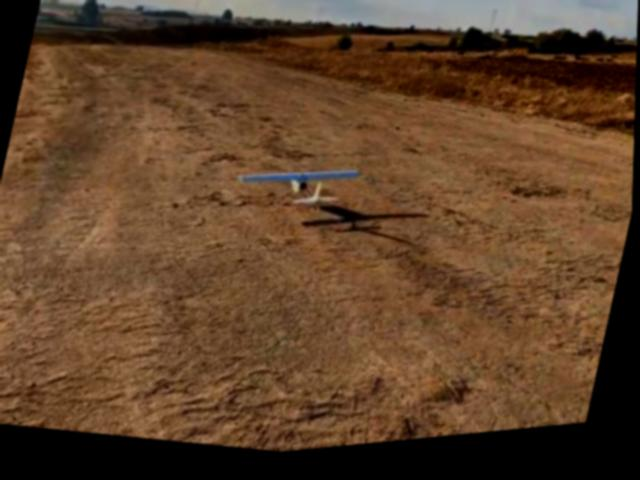uav: (232, 149, 366, 231)
